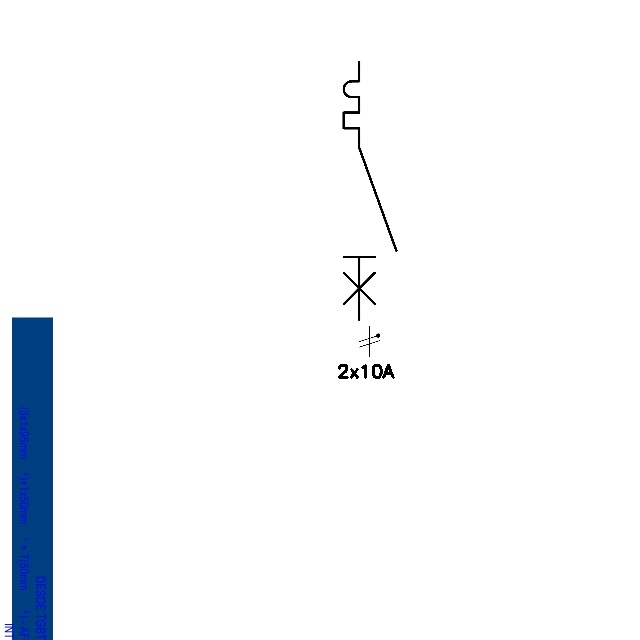interruptor_termomagnetico: (337, 55, 403, 326)
